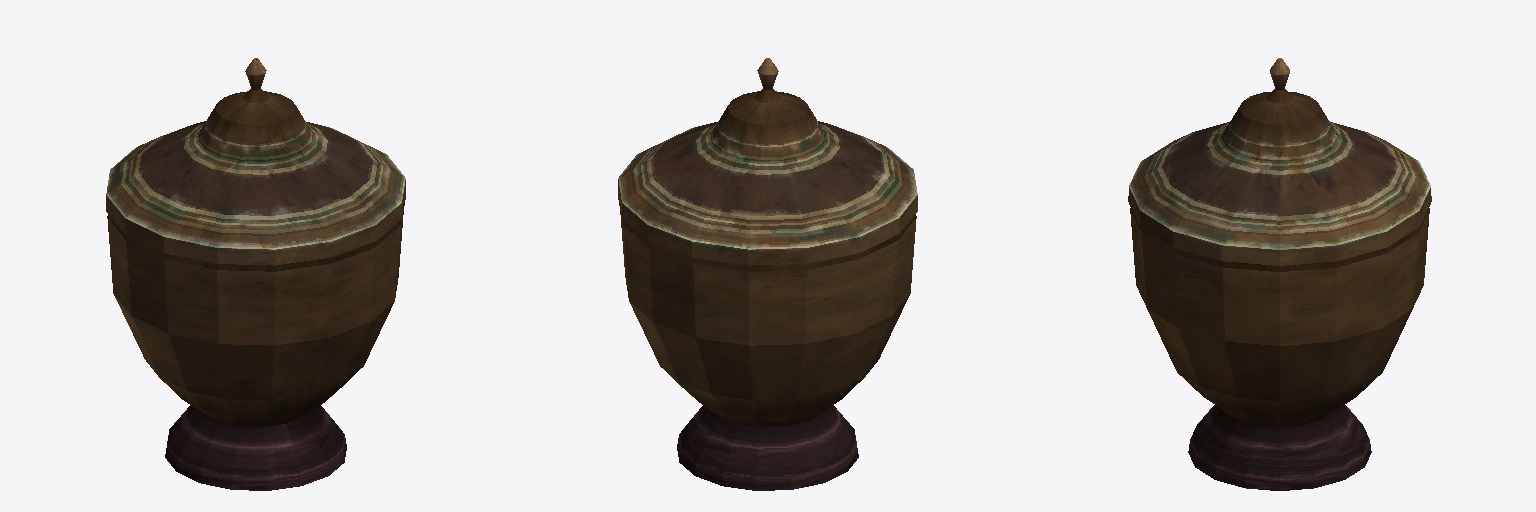
3 views of the same model, side by side, from view 1: azimuth 30°, elevation 25°; view 2: azimuth 150°, elevation 25°; view 3: azimuth 270°, elevation 25° (orthographic).
Visible parts, largest first — view 1: MedicalUrn; view 2: MedicalUrn; view 3: MedicalUrn.
Part boxes in pixels (left/top/right/bottom): MedicalUrn: left=106, top=58, right=405, bottom=490; MedicalUrn: left=618, top=58, right=917, bottom=490; MedicalUrn: left=1128, top=58, right=1431, bottom=490.
Bounding box in the file's own units: 21.88 × 31.28 × 21.88.
1 materials, 1 textured.